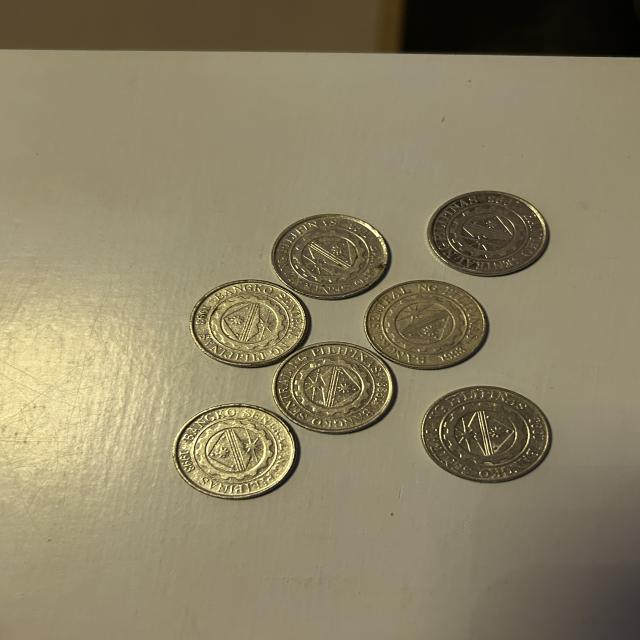1_Old_Back: (439, 202, 542, 270), (433, 401, 536, 469), (184, 416, 286, 483), (286, 352, 381, 418), (198, 292, 295, 355), (282, 225, 376, 290), (381, 291, 469, 358)
